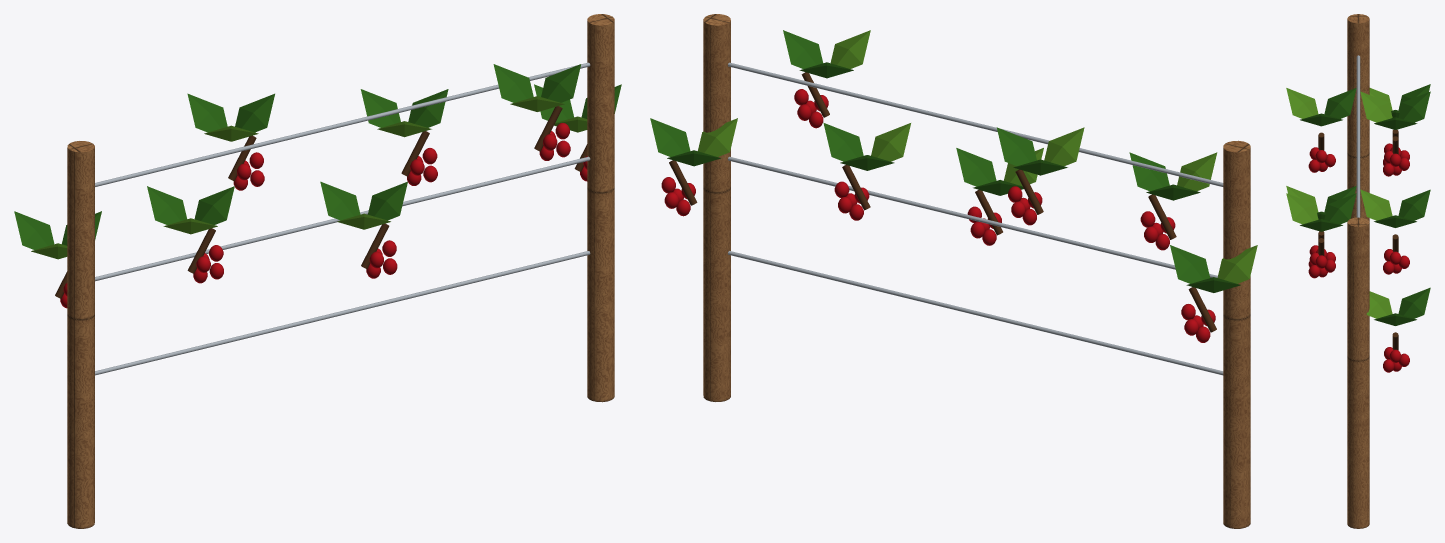
File: Szolo_voros.obj
3 renders of one model, left to right at view 1: azimuth 30°, elevation 25°; view 2: azimuth 150°, elevation 25°; view 3: azimuth 270°, elevation 25°, orthographic. The views are drawn at different scales.
Bounding box in the file's own units: 2.98 × 1.8 × 0.7811.
6 materials, 1 textured.
